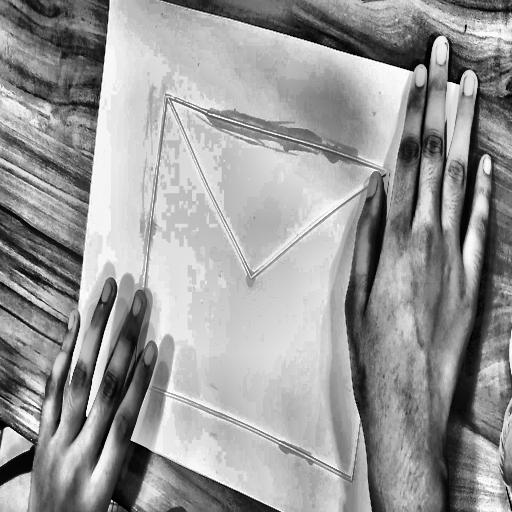bottom_left: (67, 398, 75, 412)
envelop: (117, 88, 402, 494)
top_right: (458, 81, 466, 95)
